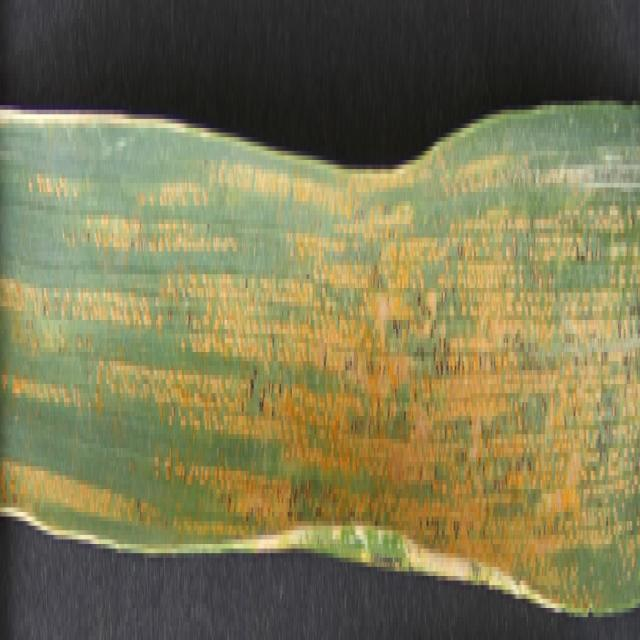leaf rust: (1, 132, 637, 604)
